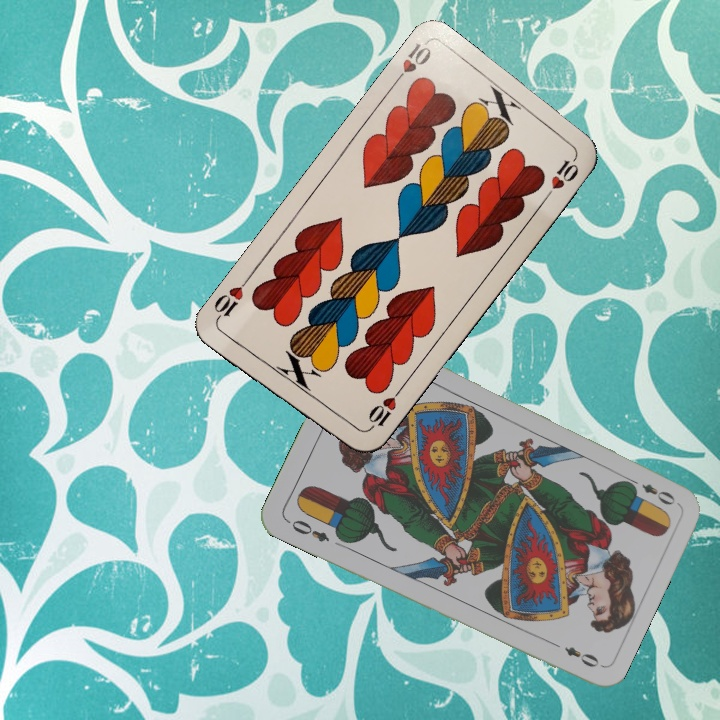EO: (623, 473, 678, 508), (283, 516, 332, 545)
H10: (388, 37, 434, 89), (362, 385, 404, 435)
